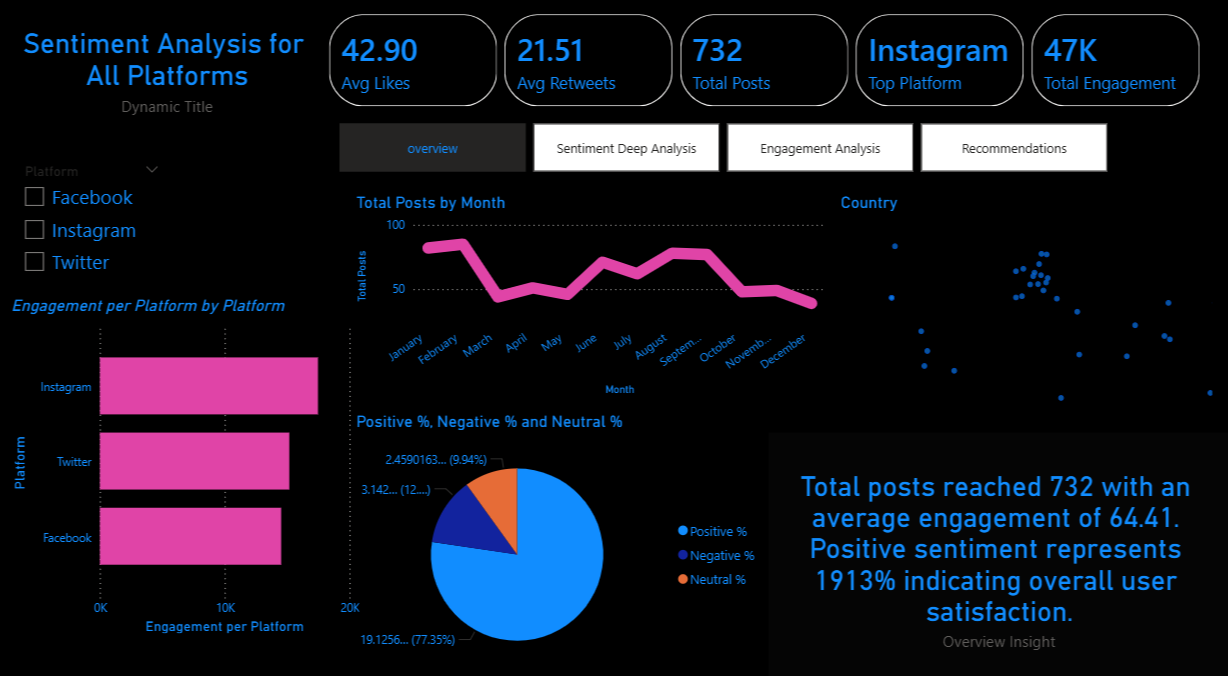

This screenshot's page, from the dashboard's own definition file:
{"tool":"powerbi","page":{"name":"overview","canvas":[1280,720],"ordinal":0},"visuals":[{"type":"cardVisual","fields":{"Data":["3) Sentiment dataset.Avg Likes","3) Sentiment dataset.Avg Retweets","3) Sentiment dataset.Total Posts","3) Sentiment dataset.Top Platform","3) Sentiment dataset.Total Engagement"]},"box":[324.5,11.1,943.2,130.4],"z":0},{"type":"pieChart","fields":{"Y":["3) Sentiment dataset.Positive %","3) Sentiment dataset.Negative %","3) Sentiment dataset.Neutral %"]},"box":[365.7,442.3,434.5,278.2],"z":1000},{"type":"barChart","fields":{"Category":["3) Sentiment dataset.Platform"],"Y":["3) Sentiment dataset.Engagement per Platform"]},"box":[6.4,321.3,372.2,356.3],"z":2000},{"type":"map","fields":{"Category":["3) Sentiment dataset.Country"]},"box":[870.6,214.1,397,250.1],"z":3000},{"type":"lineChart","fields":{"Category":["3) Sentiment dataset.Timestamp.Variation.Date Hierarchy.Month","3) Sentiment dataset.Timestamp.Variation.Date Hierarchy.Day"],"Y":["3) Sentiment dataset.Total Posts"]},"box":[365.7,214.1,498.6,215.7],"z":4000},{"type":"slicer","fields":{"Values":["3) Sentiment dataset.Platform"]},"box":[12.5,178.2,164.1,143.8],"z":5000},{"type":"card","fields":{"Values":["3) Sentiment dataset.Overview Insight"]},"box":[800.2,464.2,479.8,256.3],"z":6000},{"type":"card","fields":{"Values":["3) Sentiment dataset.Dynamic Title"]},"box":[6.4,0,334,167],"z":7000},{"type":"pageNavigator","box":[353.2,142.2,800.2,50],"z":8000}]}

Visuals, with their boxes in screenshot pixels (x1, y1, x2, y2), scaled from the page's 1280x720 canvas onto the 1228x676 screenshot:
cardVisual - 3) Sentiment dataset.Avg Likes x 3) Sentiment dataset.Avg Retweets: box=[311, 10, 1216, 133]
pieChart - 3) Sentiment dataset.Positive % x 3) Sentiment dataset.Negative %: box=[351, 415, 768, 675]
barChart - 3) Sentiment dataset.Platform x 3) Sentiment dataset.Engagement per Platform: box=[6, 302, 363, 636]
map - 3) Sentiment dataset.Country: box=[835, 201, 1216, 436]
lineChart - 3) Sentiment dataset.Timestamp.Variation.Date Hierarchy.Month x 3) Sentiment dataset.Timestamp.Variation.Date Hierarchy.Day: box=[351, 201, 829, 404]
slicer - 3) Sentiment dataset.Platform: box=[12, 167, 169, 302]
card - 3) Sentiment dataset.Overview Insight: box=[768, 436, 1227, 675]
card - 3) Sentiment dataset.Dynamic Title: box=[6, 0, 327, 157]
pageNavigator: box=[339, 134, 1107, 180]
